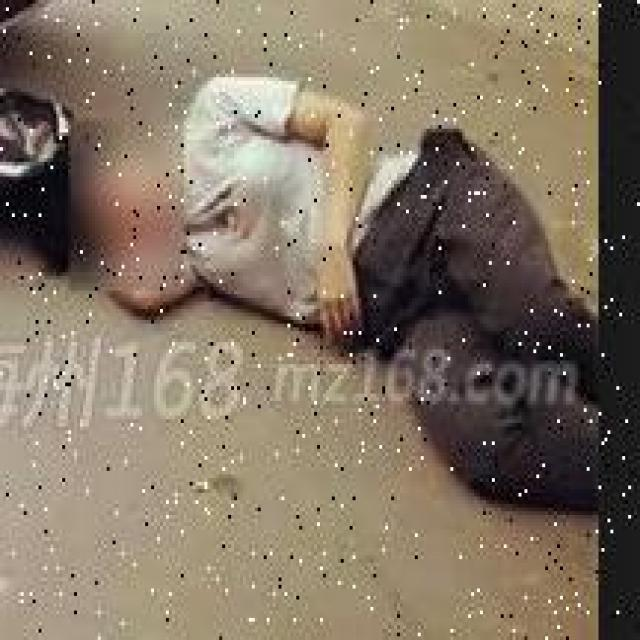fall: (50, 77, 596, 500)
